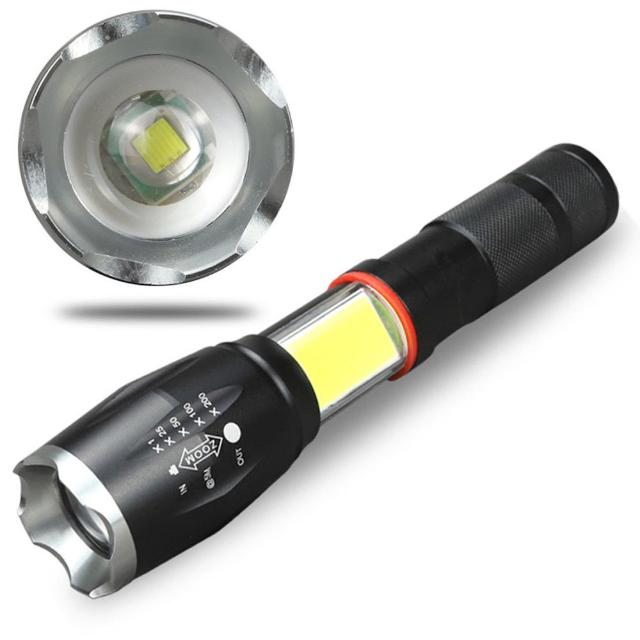Flashlight: (0, 135, 624, 609)
